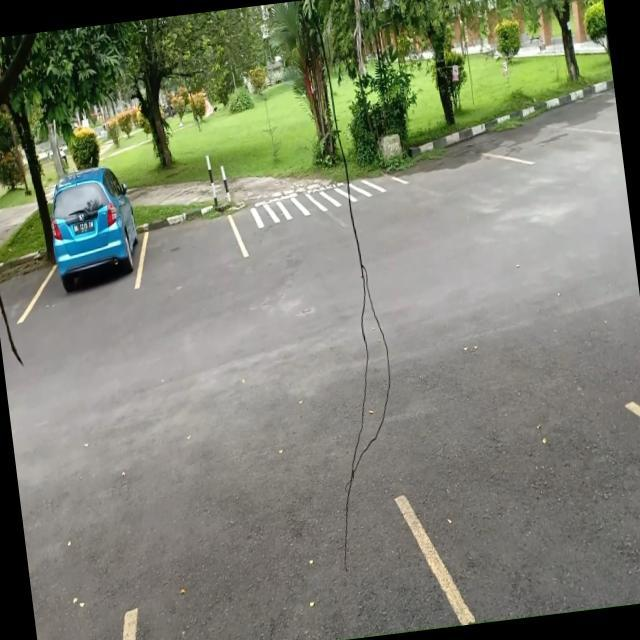empty: (132, 195, 248, 288)
occupied: (37, 206, 146, 307)
